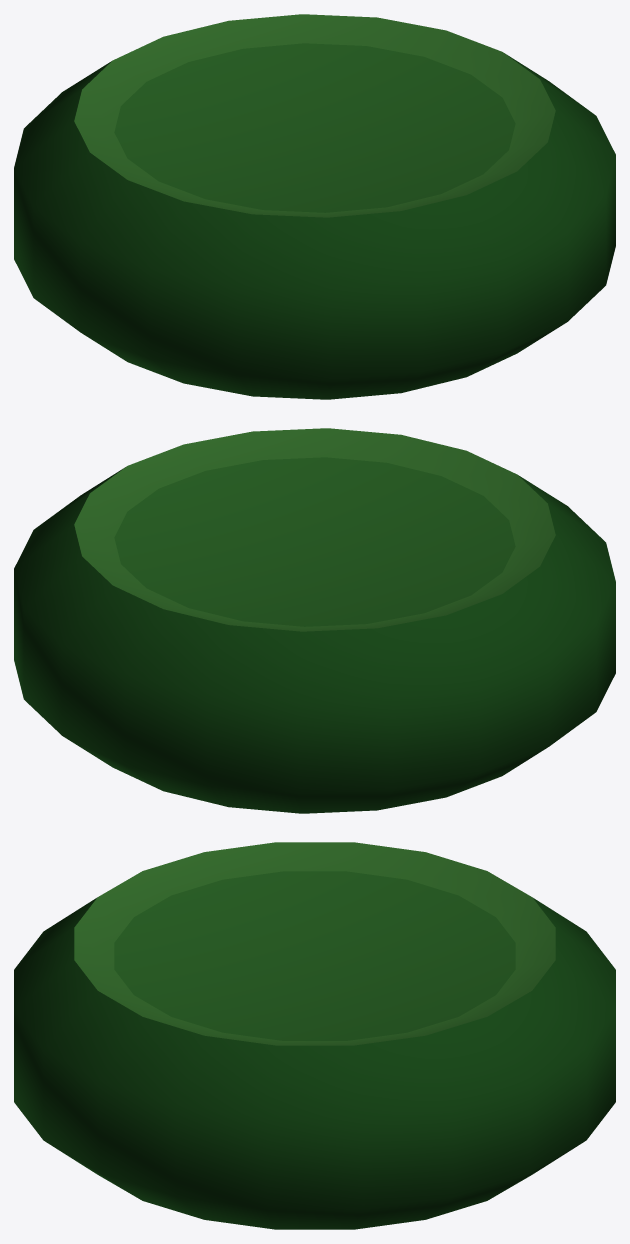
The model's file is tyrian10-1.glb.
3 renders of one model, top to bottom at view 1: azimuth 30°, elevation 25°; view 2: azimuth 150°, elevation 25°; view 3: azimuth 270°, elevation 25°, orthographic.
Visible parts, largest first — view 1: tyrian10-1; view 2: tyrian10-1; view 3: tyrian10-1.
Part boxes in pixels (bbox=[...]): tyrian10-1: bbox=[14, 14, 615, 399]; tyrian10-1: bbox=[14, 428, 615, 813]; tyrian10-1: bbox=[14, 842, 615, 1229].
Bounding box in the file's own units: 0.7408 × 0.25 × 0.7408.
